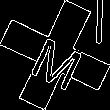M_NE: (23, 23, 87, 87)
